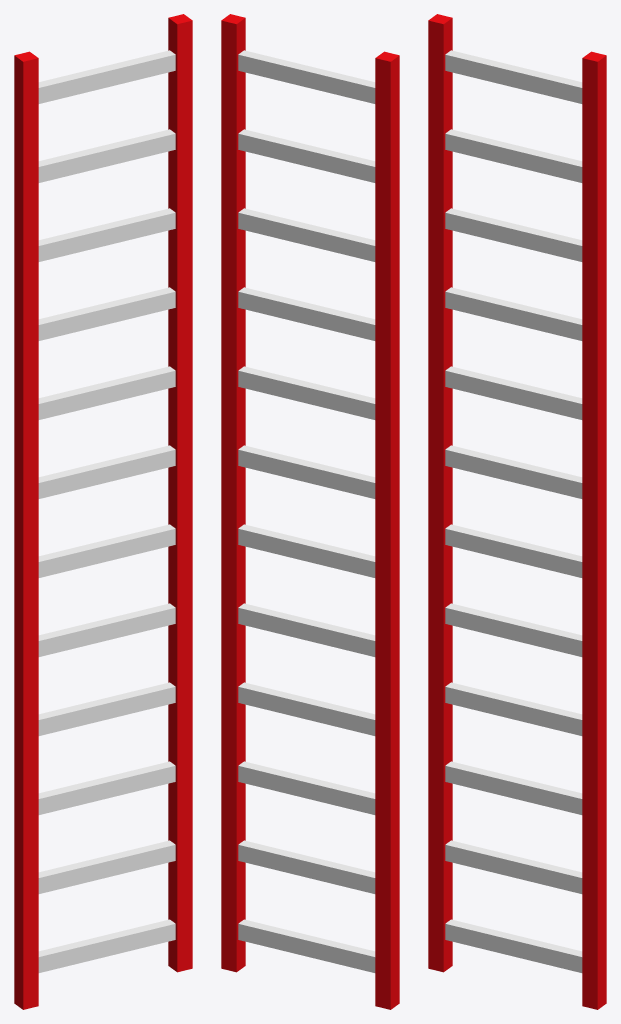
Rendered from Low_Poly_Ladder_01_Medium.obj.
3 views of the same model, side by side, from view 1: azimuth 30°, elevation 25°; view 2: azimuth 150°, elevation 25°; view 3: azimuth 330°, elevation 25° (orthographic).
Parts seen in each view (by area): view 1: Low_Poly_Ladder_01_Medium_Cube.002; view 2: Low_Poly_Ladder_01_Medium_Cube.002; view 3: Low_Poly_Ladder_01_Medium_Cube.002.
Boxes of the visible parts, box(x1,y1,x2,y2) form: Low_Poly_Ladder_01_Medium_Cube.002: box(14, 14, 192, 1009); Low_Poly_Ladder_01_Medium_Cube.002: box(221, 14, 399, 1009); Low_Poly_Ladder_01_Medium_Cube.002: box(428, 14, 606, 1009).
Size of the model in its own units: 2.2 by 11.76 by 0.2.
